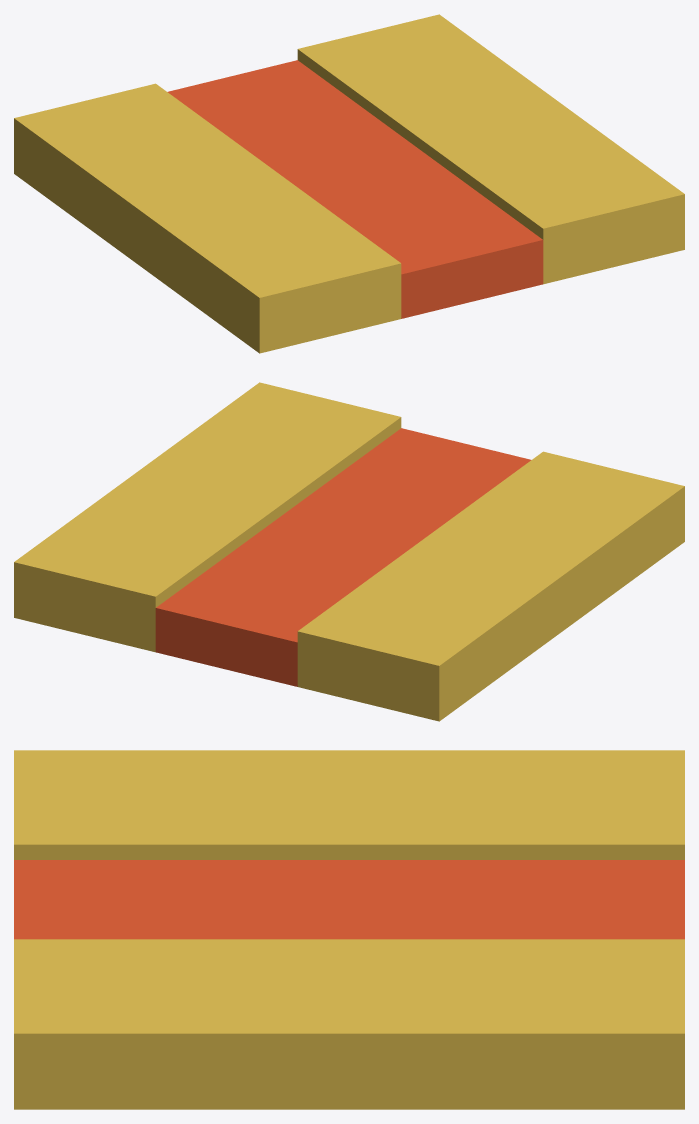
File: Footpath Straight.fbx
3 renders of one model, top to bottom at view 1: azimuth 30°, elevation 25°; view 2: azimuth 150°, elevation 25°; view 3: azimuth 270°, elevation 25°, orthographic. The views are drawn at different scales.
Visible parts, largest first — view 1: Footpath Straight; view 2: Footpath Straight; view 3: Footpath Straight.
Boxes of the visible parts, left/top/right/bottom form: Footpath Straight: left=14, top=14, right=684, bottom=353; Footpath Straight: left=14, top=382, right=684, bottom=721; Footpath Straight: left=14, top=750, right=684, bottom=1109.
Bounding box in the file's own units: 200 × 25 × 200.
